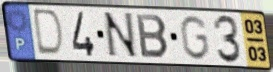3: (212, 13, 243, 65)
4: (71, 11, 96, 58)
B: (135, 12, 171, 61)
D: (33, 8, 66, 59)
G: (178, 14, 211, 62)
N: (101, 11, 141, 60)
